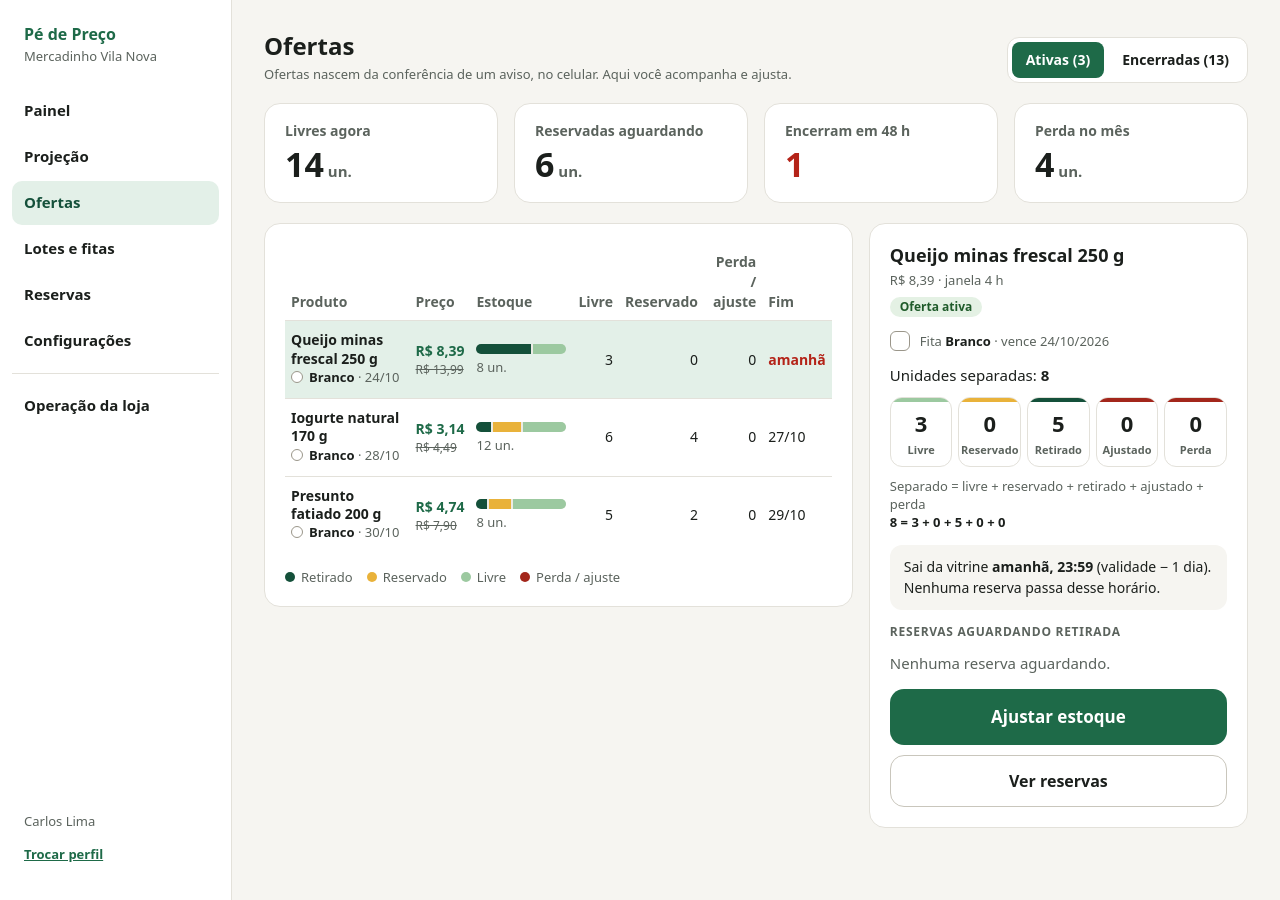
G4 · Ofertas (desktop) › a linha escolhida fica marcada e o painel acompanha (primeira por padrão)
The width and height of the screenshot is (1280, 900).
Expected: the table is shown, [285,244,832,554]
Expected: the heading "Queijo minas frescal 250 g" is shown, [890,244,1124,267]
Click the button "Presunto fatiado 200 g". click: (347, 505)
box: [291,487,404,523]
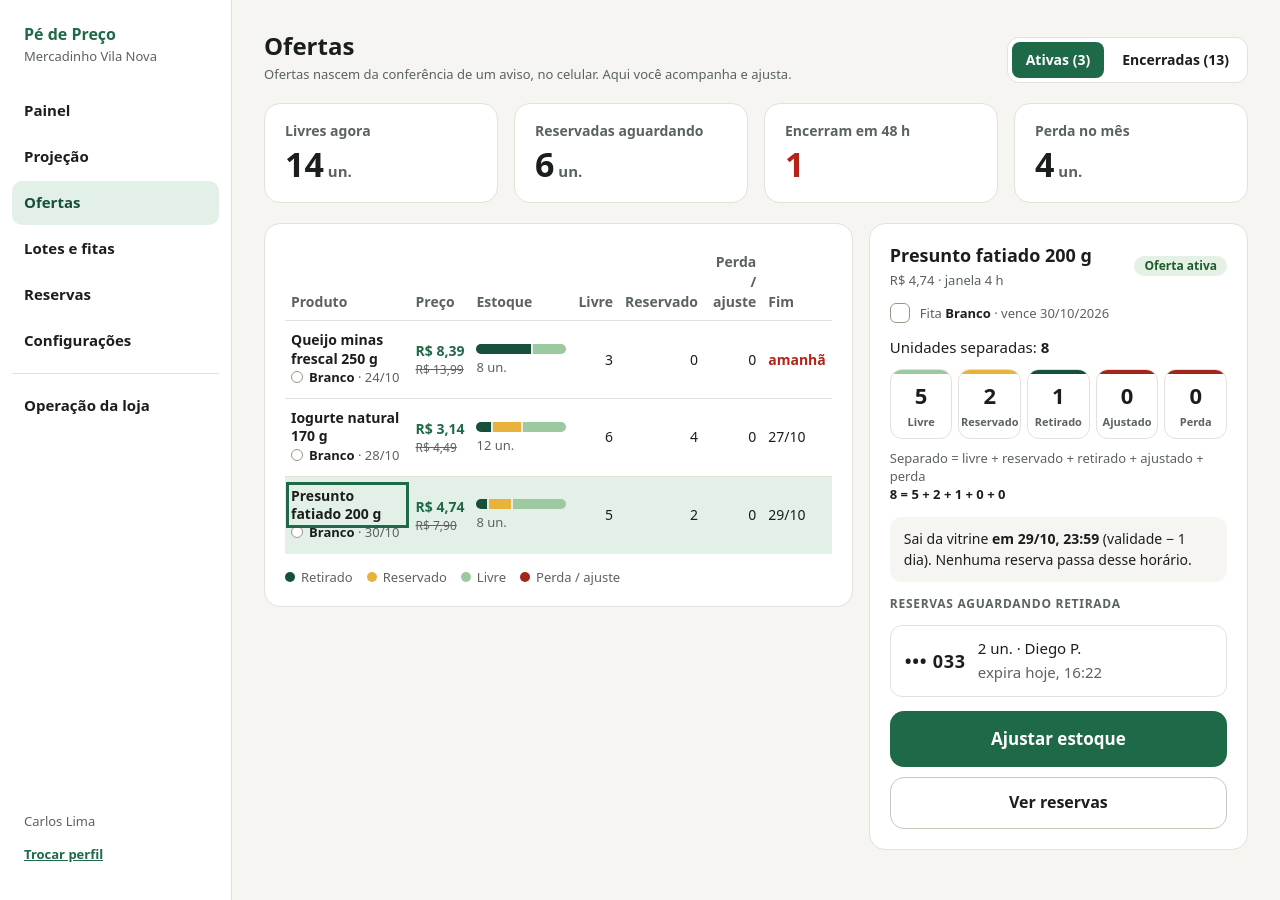
Now the heading "Presunto fatiado 200 g" is shown, box [890,244,1092,267]
Now the text "8 = 5 + 2 + 1 + 0 + 0" is shown, box [890,485,1005,503]
